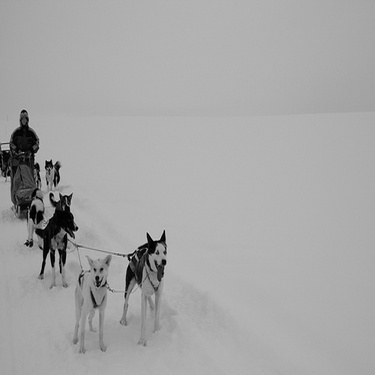dog: (112, 223, 176, 355), (69, 248, 118, 361), (24, 209, 87, 293), (12, 185, 56, 262), (30, 194, 77, 249), (36, 153, 66, 212), (27, 155, 43, 207)
